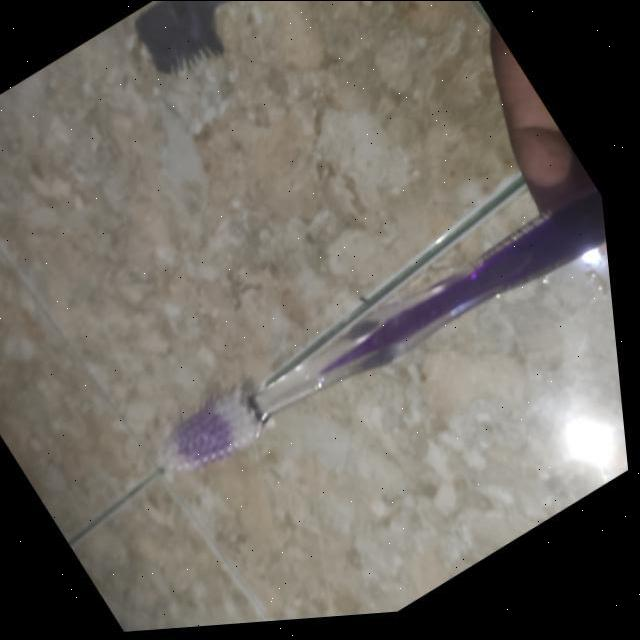toothbrush: (133, 188, 631, 500)
